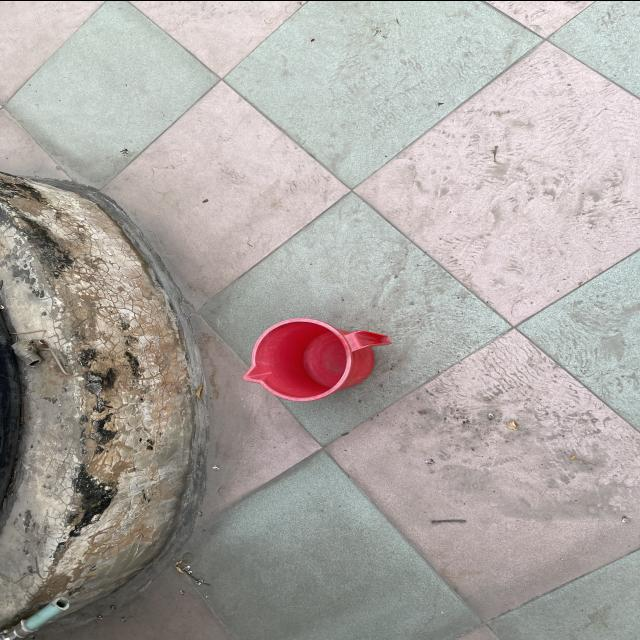Breeding Place: (238, 314, 389, 402)
